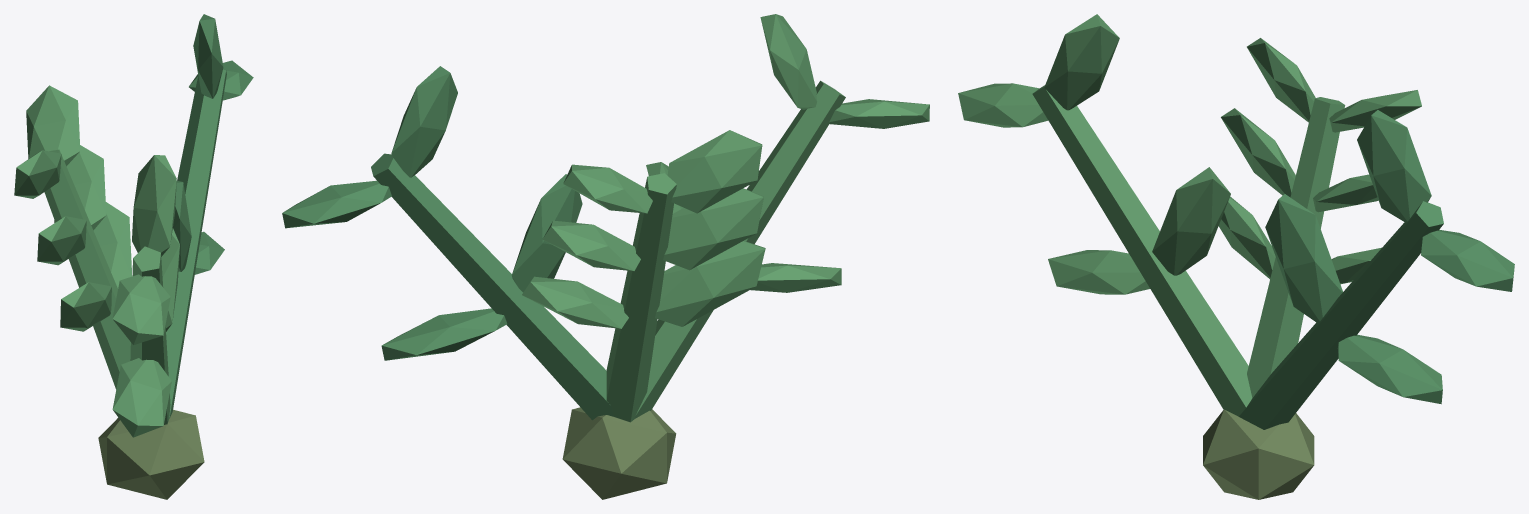
The picture shows the model from 3 angles, left to right: view 1: azimuth 30°, elevation 25°; view 2: azimuth 150°, elevation 25°; view 3: azimuth 270°, elevation 25°; orthographic projection. The views are drawn at different scales.
Visible parts, largest first — view 1: part0, part8, part1, part17, part14, part7, part16, part5, part3, part2, part4, part11 (+6 smaller); view 2: part8, part1, part0, part13, part2, part6, part4, part11, part9, part10, part3, part12 (+5 smaller); view 3: part13, part8, part0, part1, part9, part11, part15, part17, part10, part12, part14, part16 (+6 smaller).
Boxes of the visible parts, box(x1,y1,x2,y2) form: part0: box(98, 409, 204, 499); part8: box(166, 69, 226, 418); part1: box(44, 149, 130, 389); part17: box(132, 155, 176, 256); part14: box(112, 358, 171, 437); part7: box(26, 85, 80, 165); part16: box(112, 274, 170, 344); part5: box(54, 145, 106, 230); part3: box(93, 202, 132, 288); part2: box(60, 282, 111, 331); part4: box(37, 216, 86, 265); part11: box(193, 14, 223, 98); part8: box(371, 153, 613, 420); part1: box(606, 173, 676, 422); part0: box(562, 407, 676, 499); part13: box(635, 80, 845, 418); part2: box(655, 241, 765, 326); part6: box(667, 130, 762, 213); part4: box(663, 188, 763, 270); part11: box(391, 66, 457, 177); part9: box(511, 174, 582, 292); part10: box(381, 308, 507, 360); part3: box(522, 276, 628, 328); part12: box(282, 180, 391, 228); part13: box(1032, 85, 1252, 416); part8: box(1239, 201, 1443, 429); part0: box(1203, 409, 1314, 499); part1: box(1247, 97, 1345, 397); part9: box(1265, 194, 1342, 323); part11: box(1357, 110, 1431, 222); part15: box(1152, 167, 1230, 275); part17: box(1044, 14, 1119, 110); part10: box(1337, 334, 1442, 404); part12: box(1421, 230, 1514, 291); part14: box(1048, 250, 1149, 294); part16: box(958, 83, 1048, 127).
Bounding box in the file's own units: 2.78 × 2.97 × 3.4.
